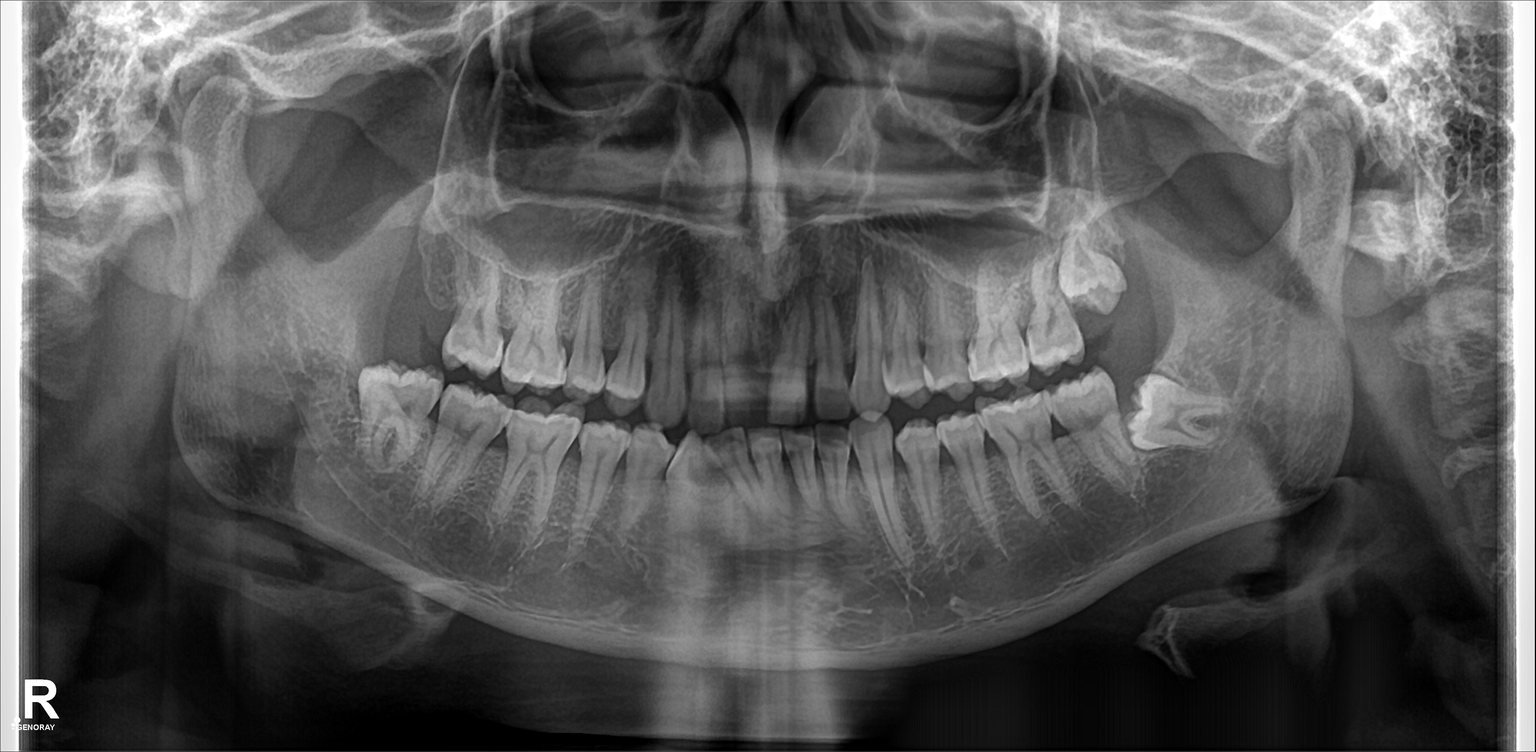Impacted Third Molar: (1138, 372, 1226, 448), (1050, 235, 1132, 301)
Missing Tooth: (410, 240, 456, 358)
